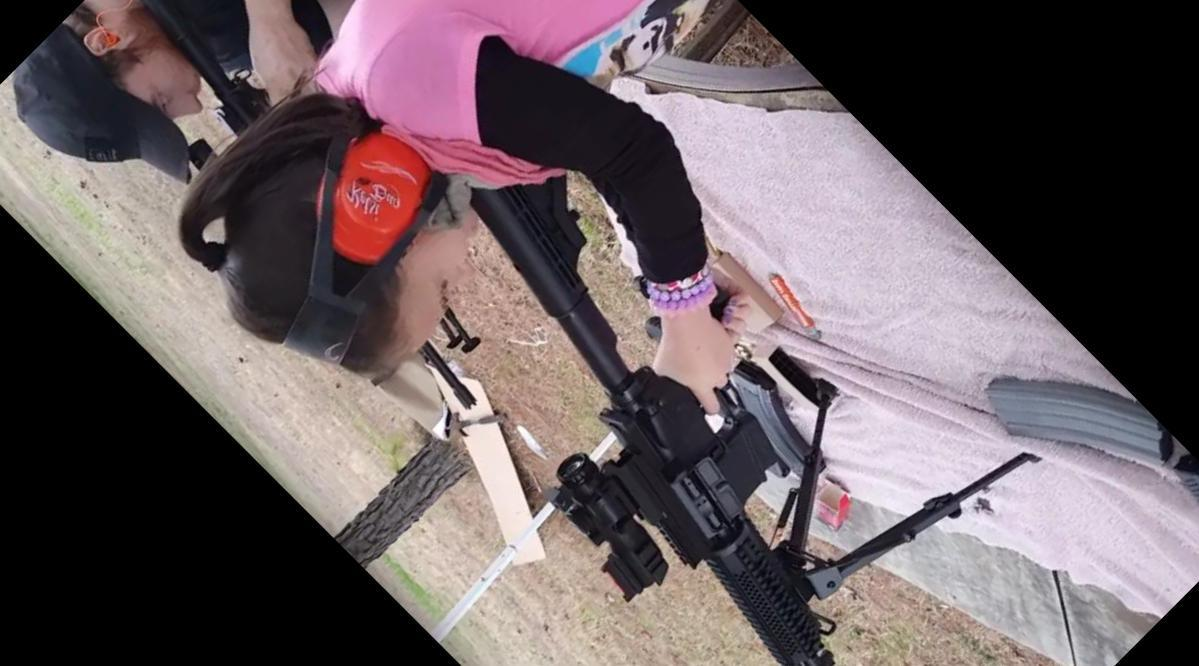larga: (469, 171, 1047, 666)
